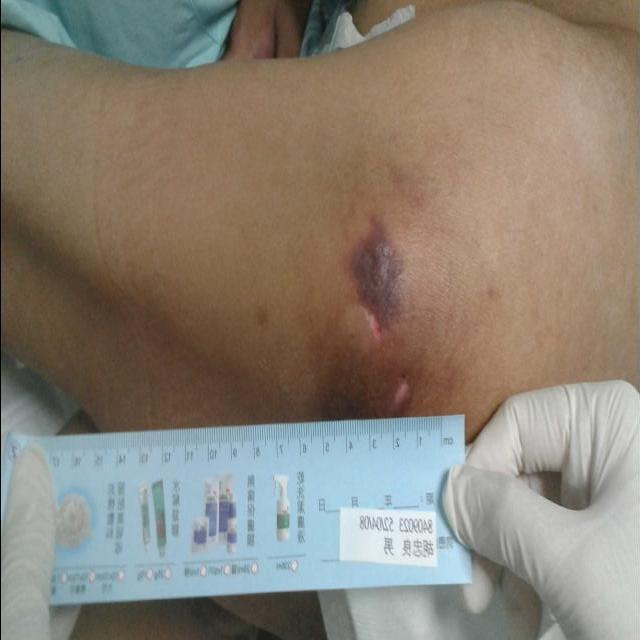DTI: (346, 220, 405, 332)
